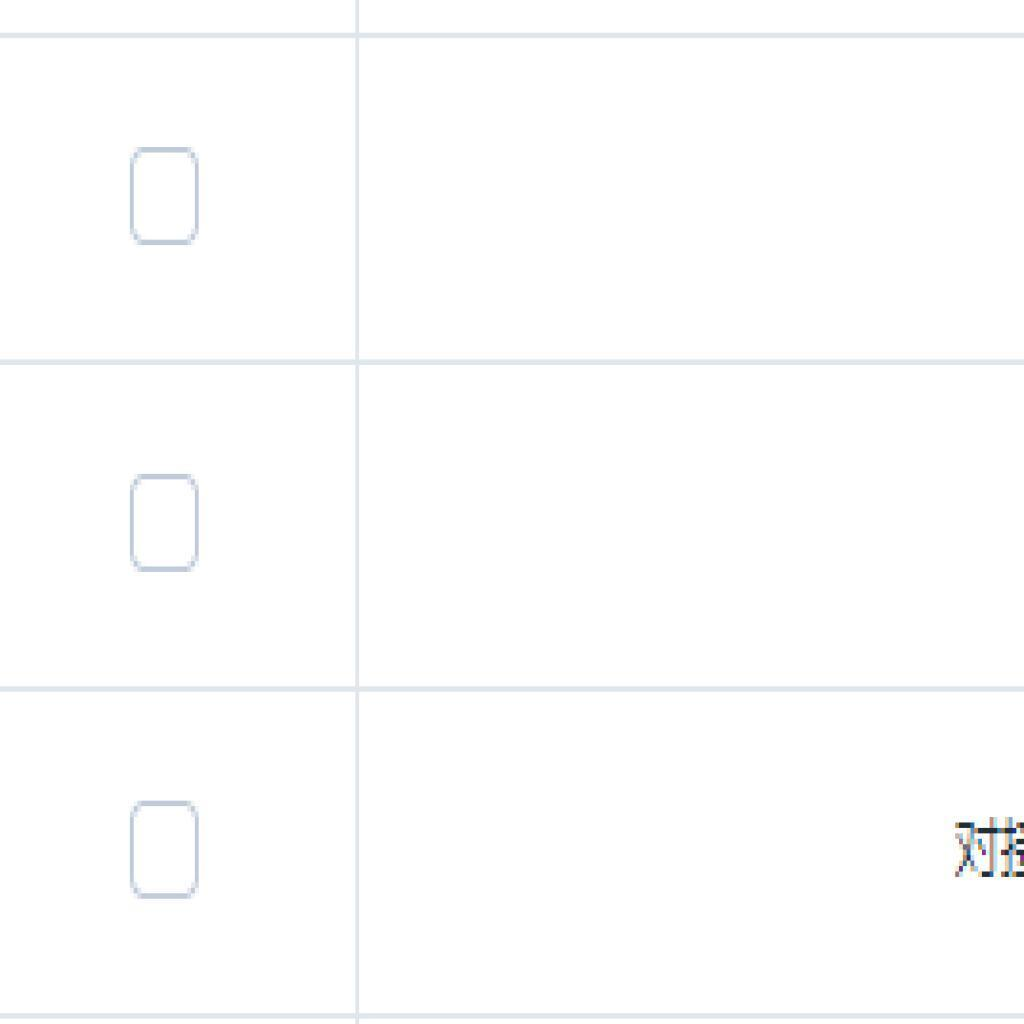checkbox: (130, 479, 201, 570), (132, 805, 201, 898), (132, 152, 199, 244)
